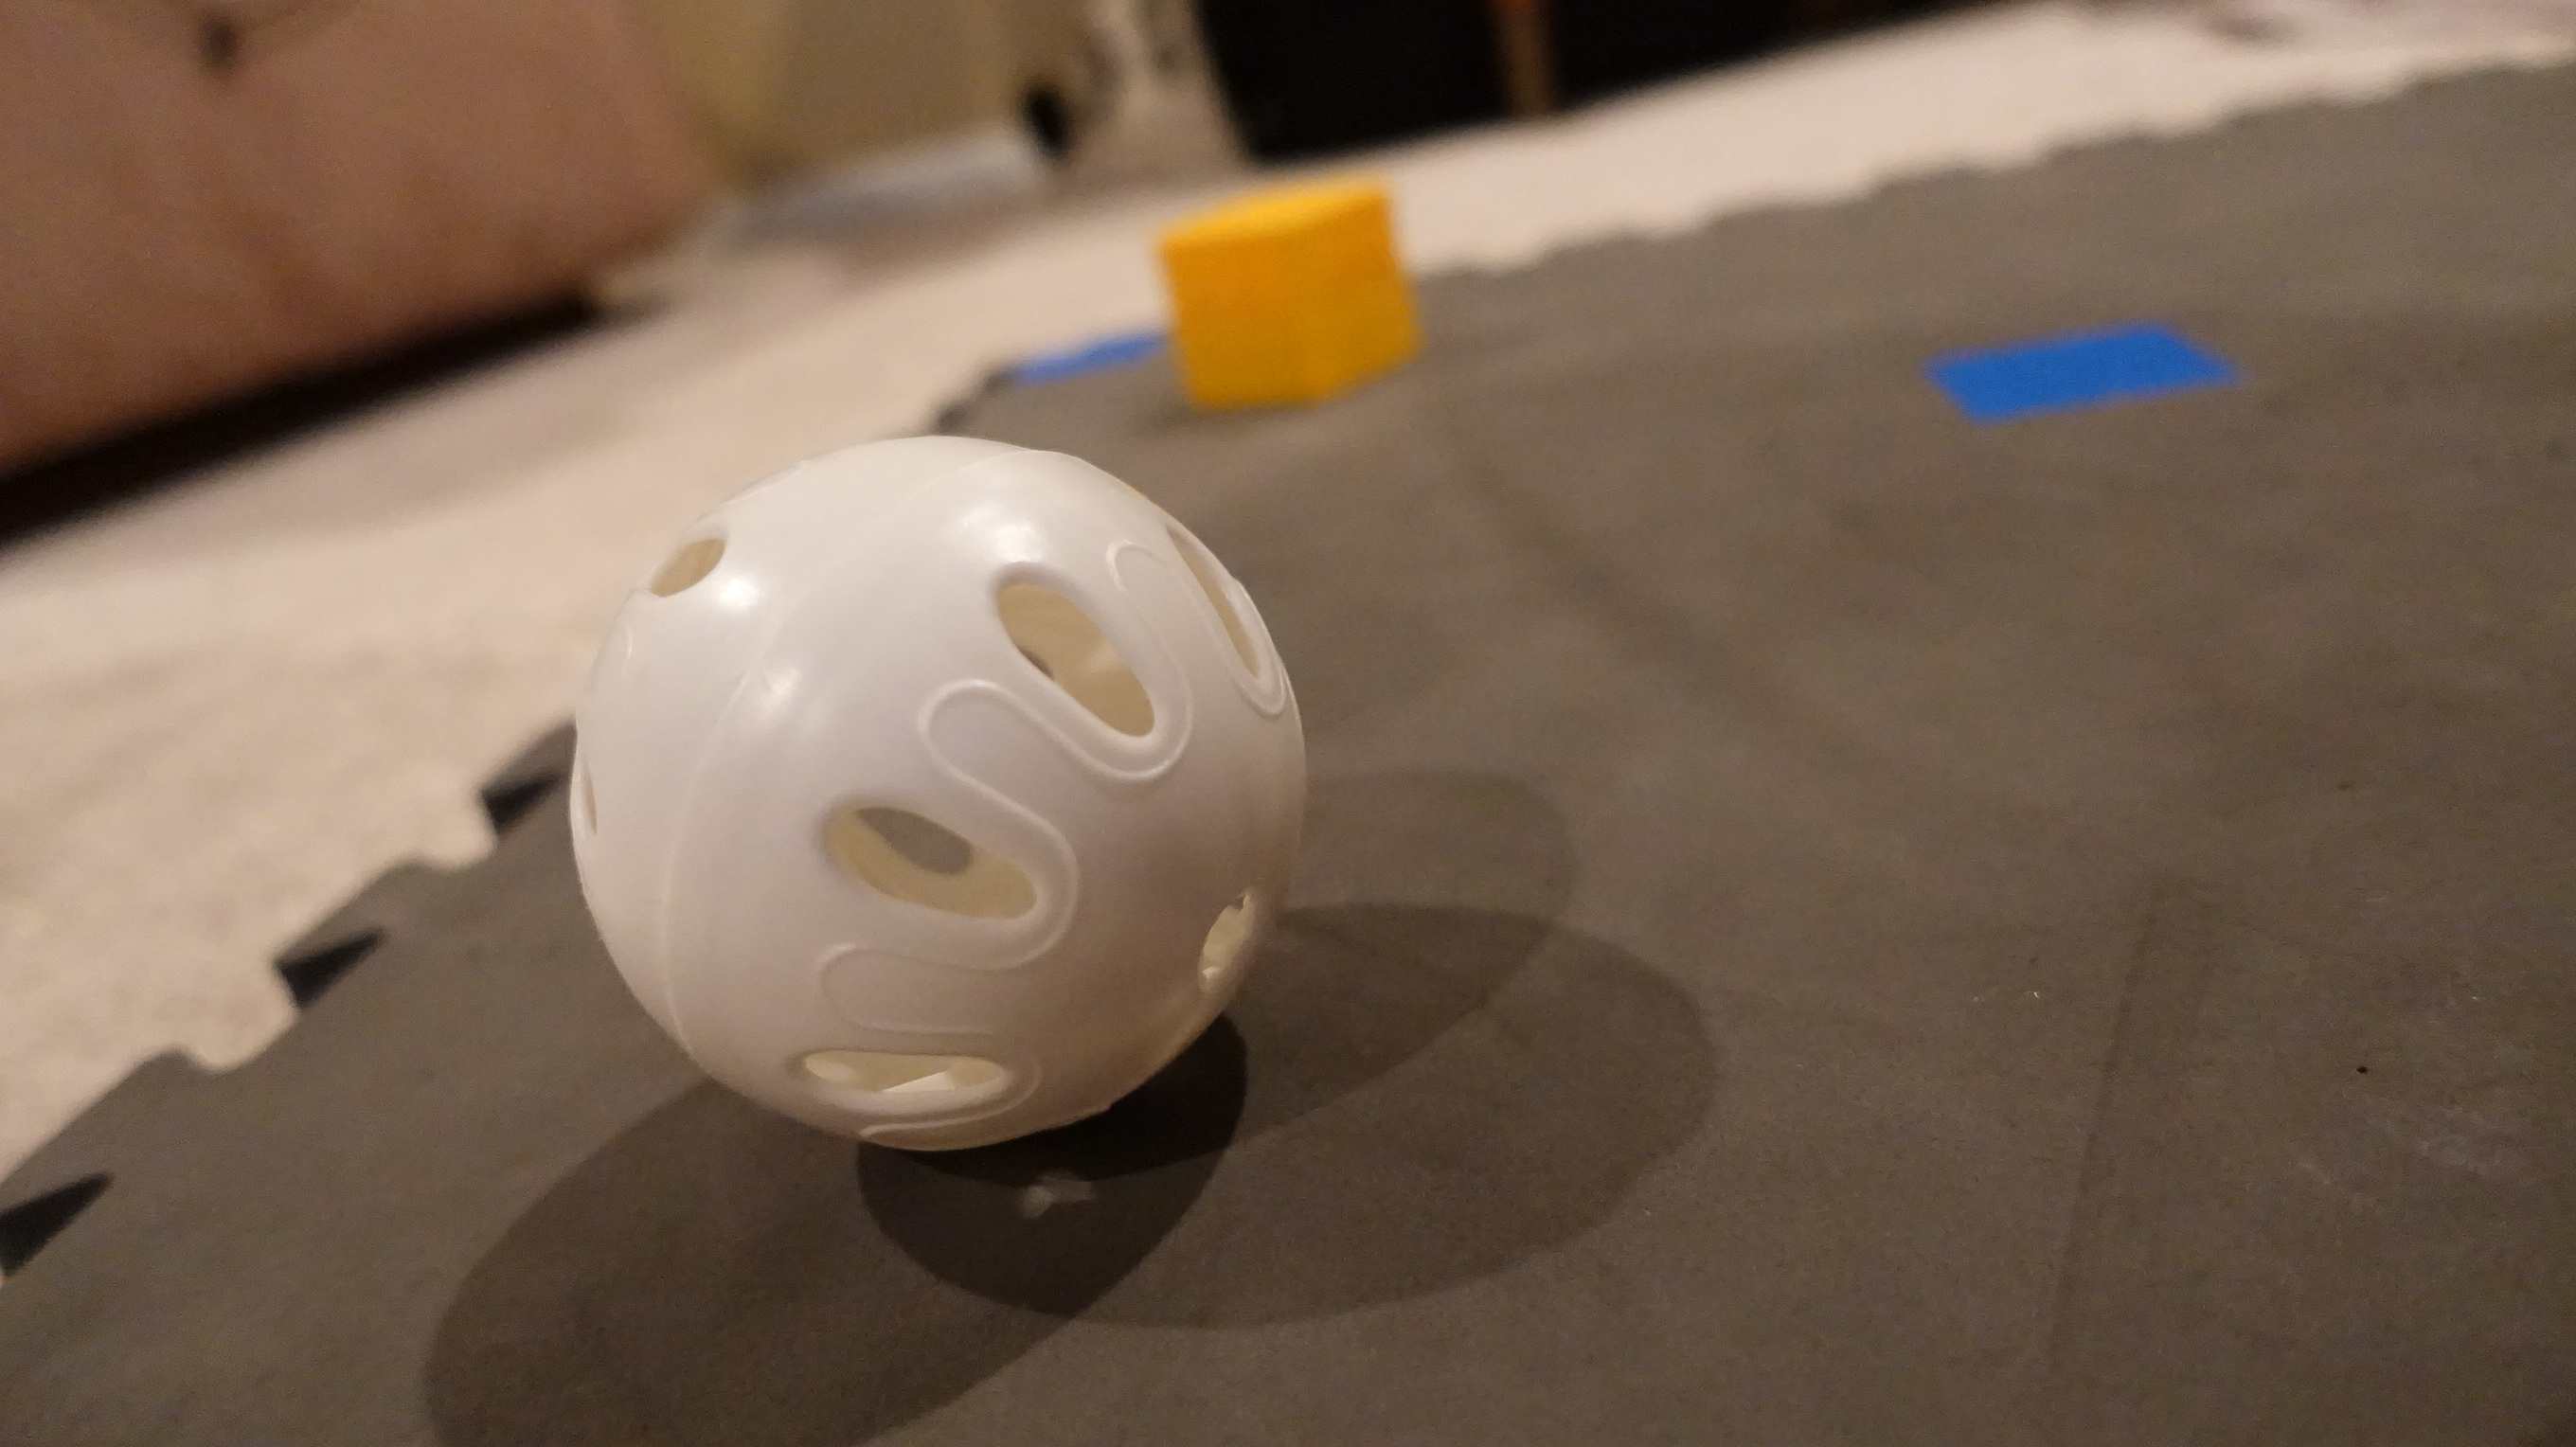gold: (1134, 179, 1433, 410)
silver: (563, 435, 1334, 1150)
